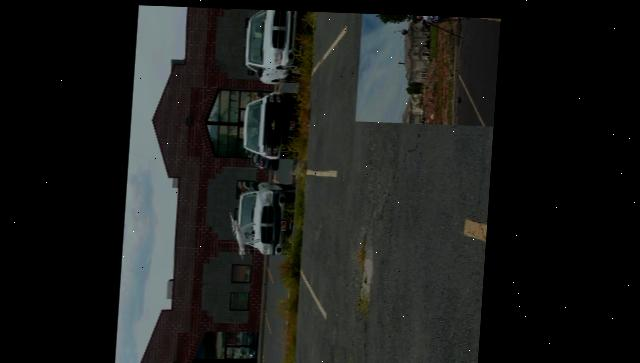drone: (228, 208, 263, 256)
